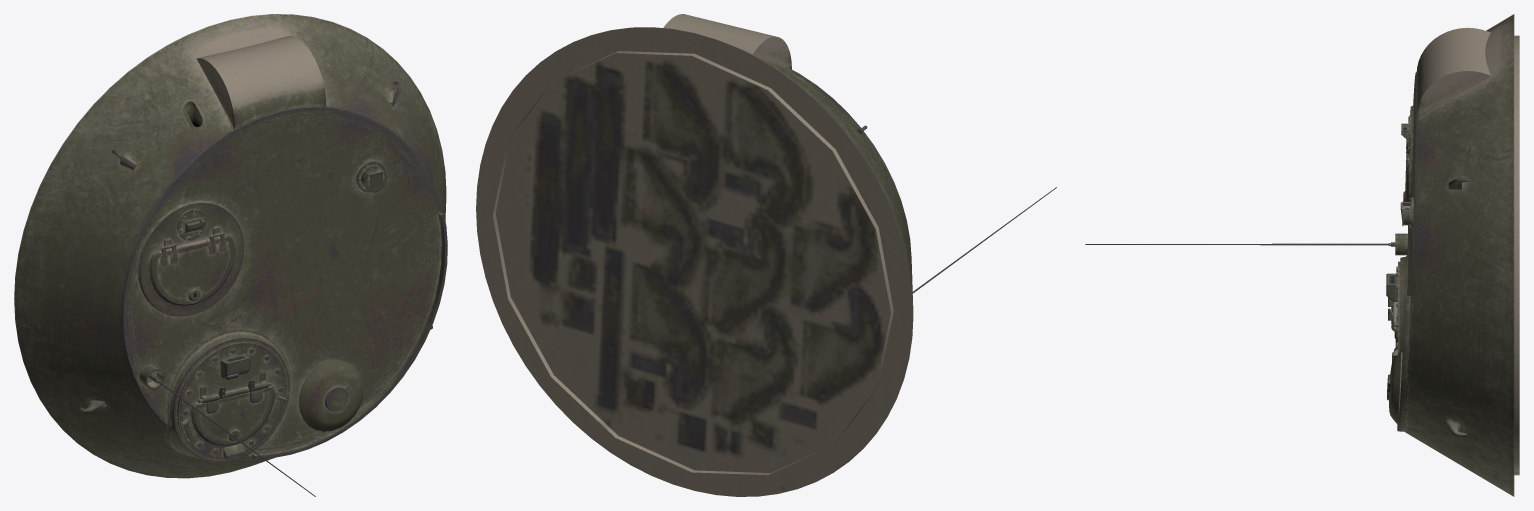
File: Turret_01.glb
3 renders of one model, left to right at view 1: azimuth 30°, elevation 25°; view 2: azimuth 150°, elevation 25°; view 3: azimuth 270°, elevation 25°, orthographic. The views are drawn at different scales.
Parts seen in each view (by area): view 1: set_0_group_0; view 2: set_0_group_0; view 3: set_0_group_0.
Part boxes in pixels (bbox=[...]): set_0_group_0: bbox=[14, 14, 447, 496]; set_0_group_0: bbox=[476, 14, 1056, 496]; set_0_group_0: bbox=[1085, 14, 1519, 496].
Bounding box in the file's own units: 3.21 × 3.21 × 2.88.
1 material, 1 textured.
